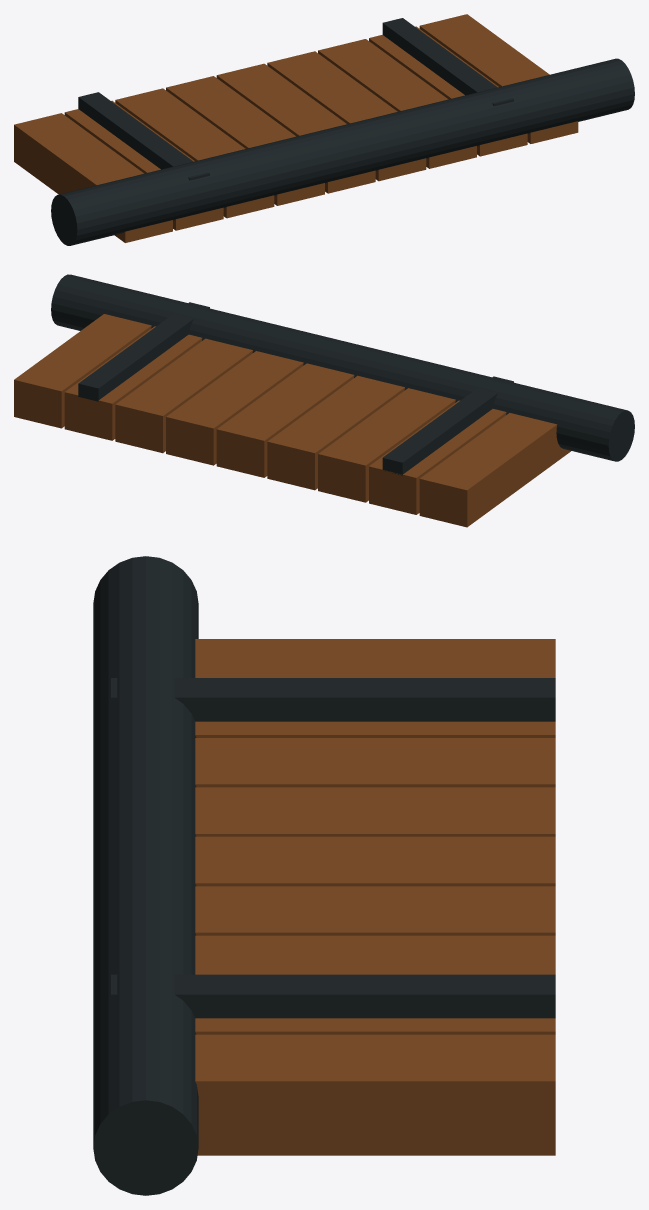
File: sluice.obj
The picture shows the model from 3 angles, top to bottom: view 1: azimuth 30°, elevation 25°; view 2: azimuth 150°, elevation 25°; view 3: azimuth 270°, elevation 25°; orthographic projection. The views are drawn at different scales.
Visible parts, largest first — view 1: sluice_wood, sluice_iron; view 2: sluice_wood, sluice_iron; view 3: sluice_wood, sluice_iron.
Part boxes in pixels (<box>): sluice_wood: <box>14,14,578,242</box>; sluice_iron: <box>51,18,634,245</box>; sluice_wood: <box>14,314,570,527</box>; sluice_iron: <box>51,274,634,475</box>; sluice_wood: <box>195,639,555,1155</box>; sluice_iron: <box>93,556,555,1195</box>.
Bounding box in the file's own units: 1.1 × 0.1 × 0.395.
